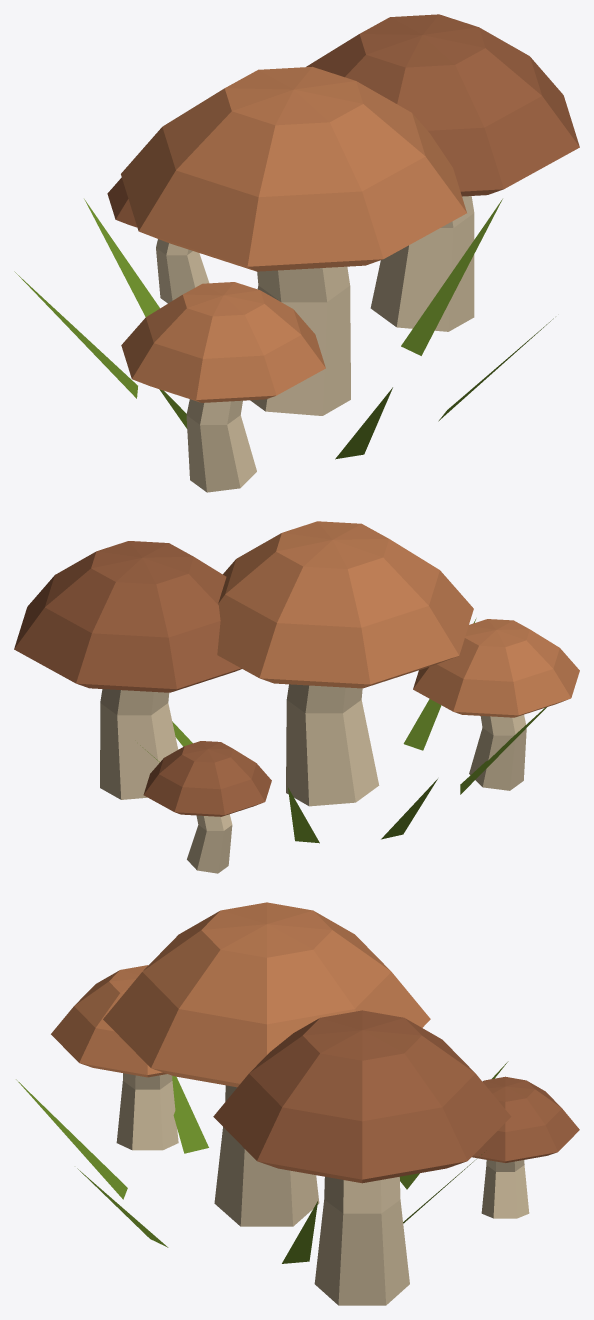
File: champignons_2.glb
3 renders of one model, top to bottom at view 1: azimuth 30°, elevation 25°; view 2: azimuth 150°, elevation 25°; view 3: azimuth 270°, elevation 25°, orthographic. The views are drawn at different scales.
Parts seen in each view (by area): view 1: champignons_2; view 2: champignons_2; view 3: champignons_2.
Part boxes in pixels (<box>): champignons_2: <box>14,14,579,492</box>; champignons_2: <box>14,521,579,873</box>; champignons_2: <box>16,902,579,1305</box>.
Bounding box in the file's own units: 0.4862 × 0.2623 × 0.4746.
